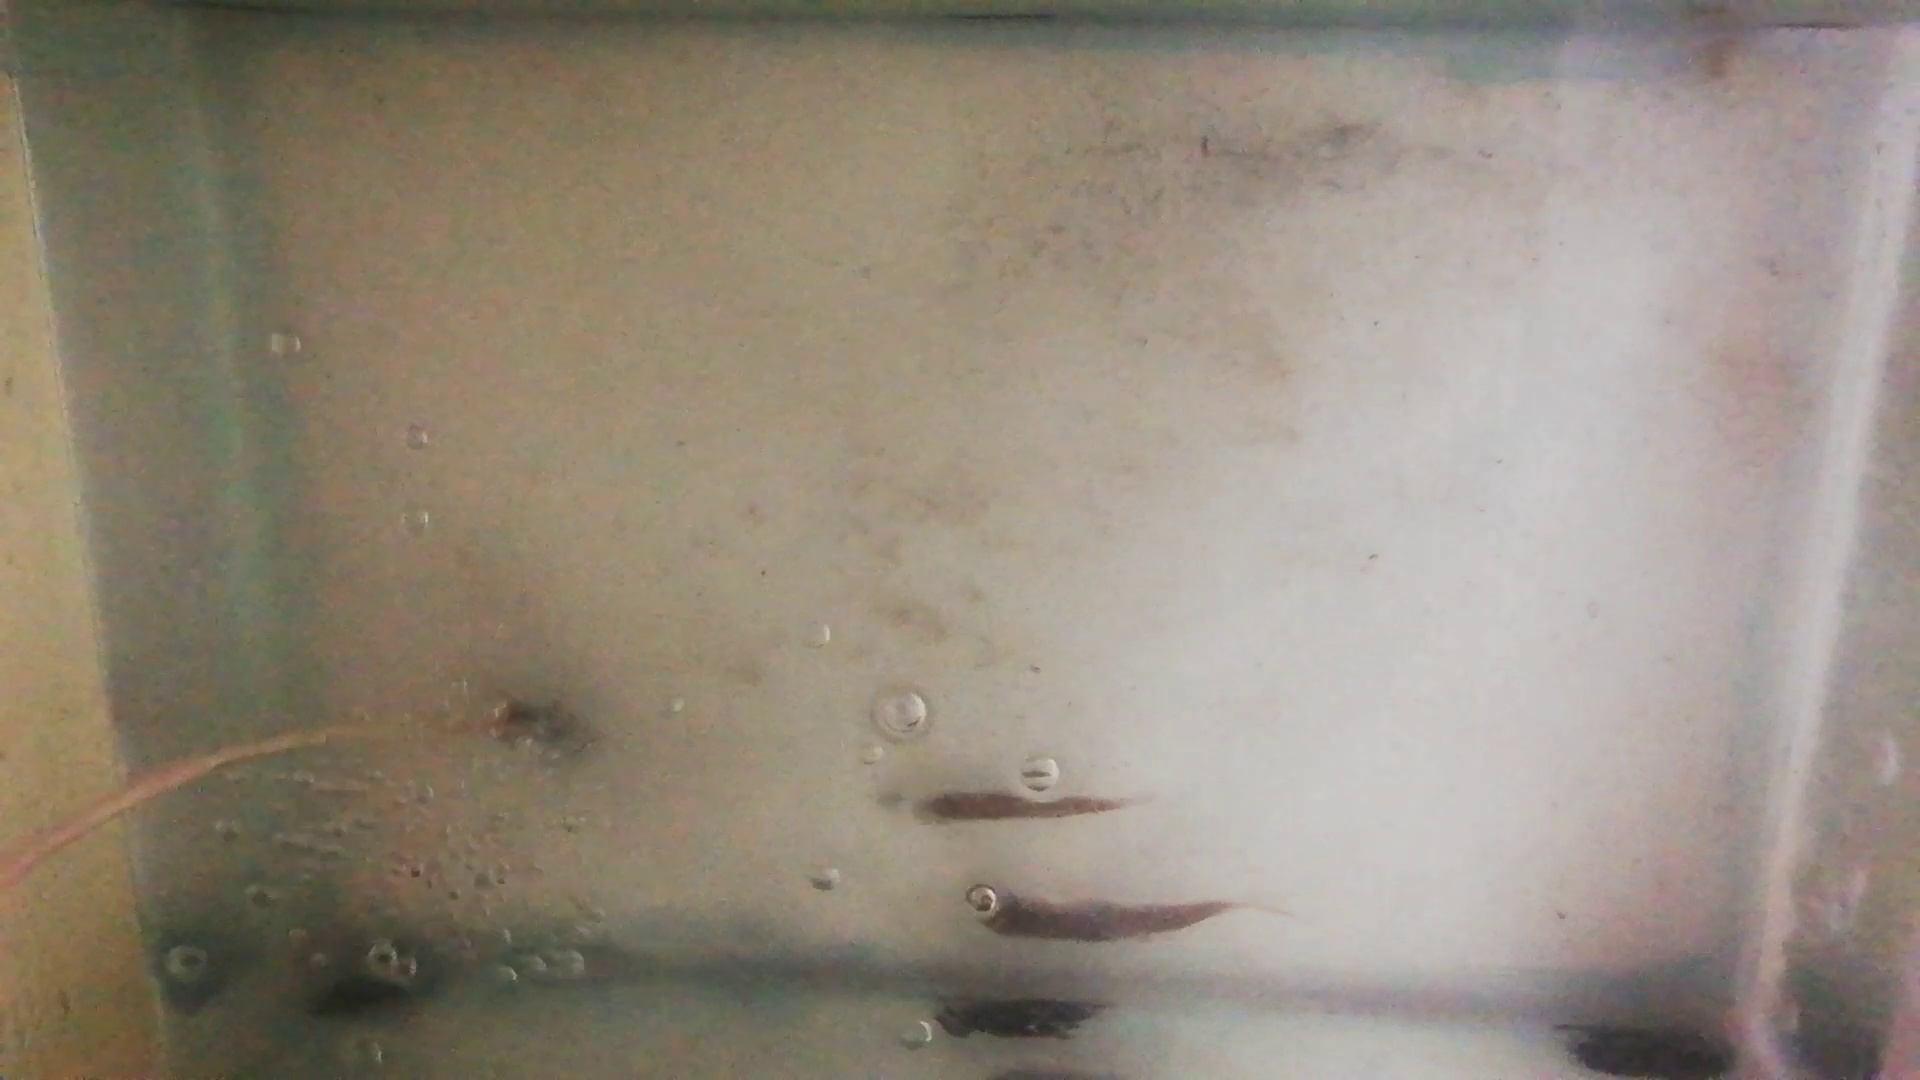fish: (975, 891, 1234, 945), (910, 789, 1122, 825)
